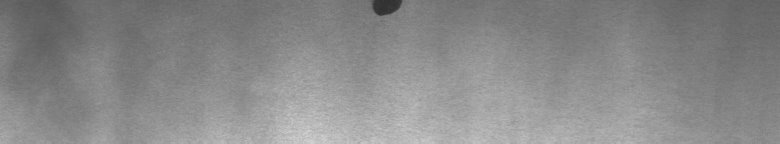fi: (366, 4, 404, 24)
